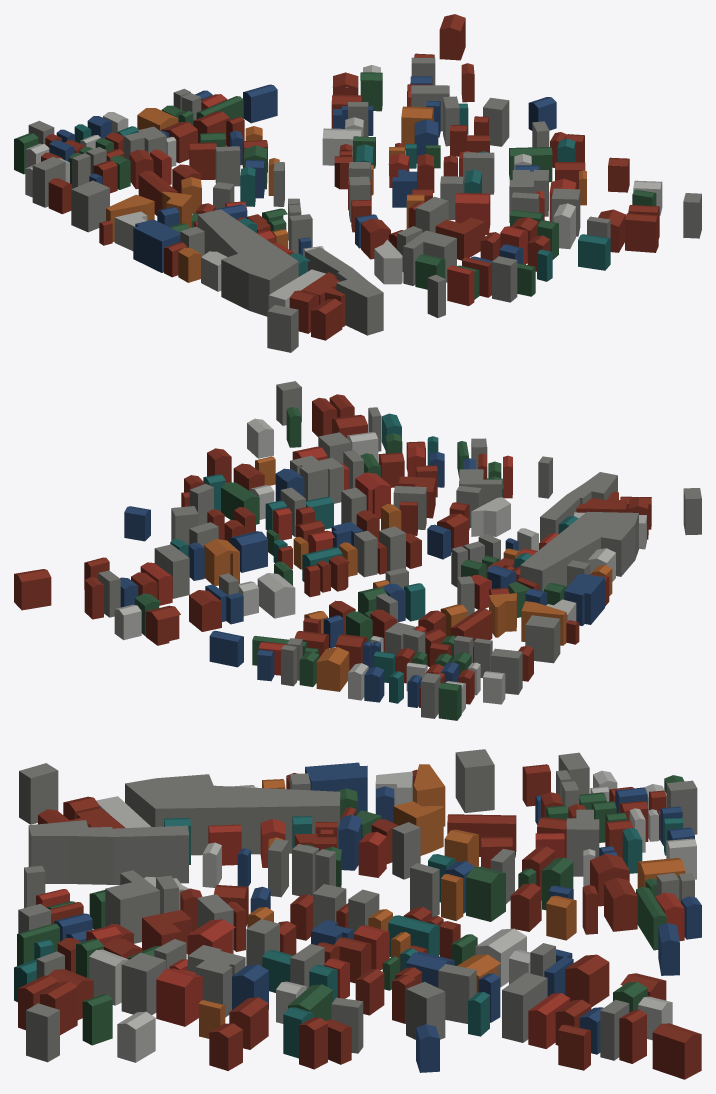
File: near-17-109442-59464.bd707eb0.glb
3 views of the same model, one above another, from view 1: azimuth 30°, elevation 25°; view 2: azimuth 150°, elevation 25°; view 3: azimuth 270°, elevation 25° (orthographic). The views are drawn at different scales.
Size of the model in its own units: 303 by 35.45 by 301.
